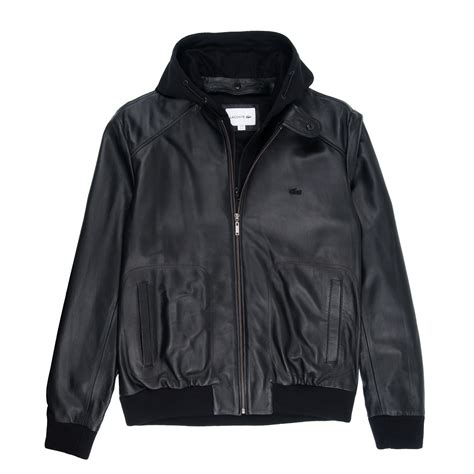cuero: (42, 30, 426, 429)
